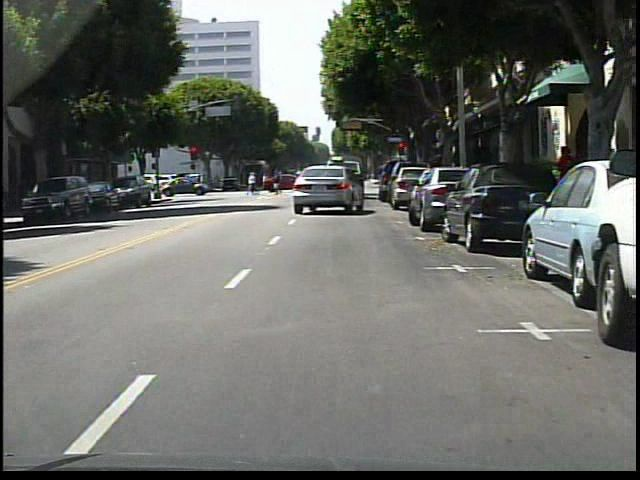person: (555, 142, 582, 209), (274, 168, 286, 197), (248, 171, 261, 196), (262, 173, 268, 189)
